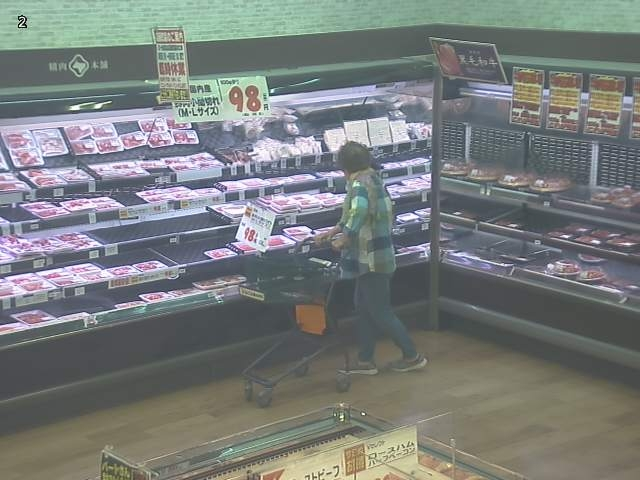meat: (0, 259, 169, 300), (136, 173, 316, 204), (63, 117, 200, 157), (116, 273, 247, 310), (89, 151, 224, 179), (0, 232, 102, 264), (1, 130, 68, 170), (21, 196, 126, 219), (255, 192, 347, 218), (267, 225, 334, 249), (20, 167, 93, 188), (0, 308, 54, 332), (203, 241, 257, 260), (382, 156, 431, 170), (208, 201, 247, 218), (0, 173, 32, 192)
meatless: (44, 93, 432, 168), (1, 258, 262, 324), (92, 233, 237, 266), (88, 212, 226, 243), (258, 164, 339, 179), (0, 206, 36, 222), (392, 238, 423, 256), (109, 192, 146, 206), (114, 120, 138, 133)
